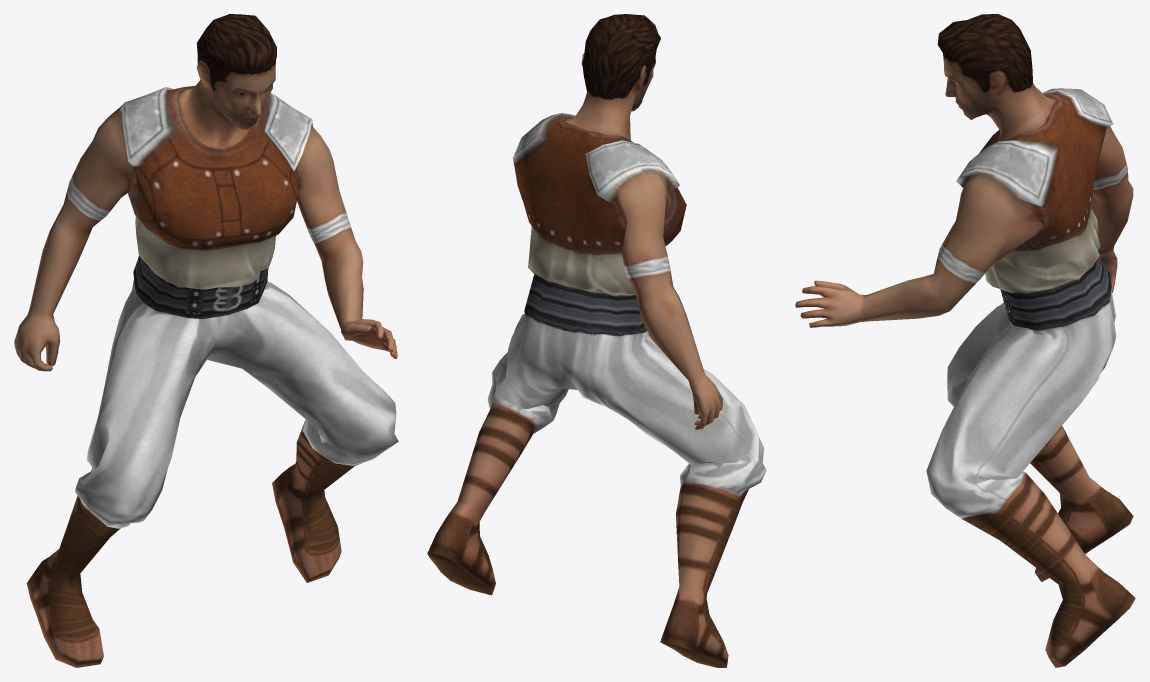
The model's file is rider-base.glb.
3 views of the same model, side by side, from view 1: azimuth 30°, elevation 25°; view 2: azimuth 150°, elevation 25°; view 3: azimuth 270°, elevation 25° (orthographic). The views are drawn at different scales.
Bounding box in the file's own units: 0.9623 × 1.93 × 0.965.
1 material, 1 textured.
